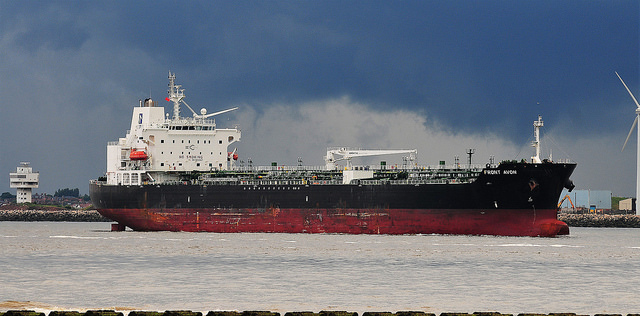tanker: (91, 67, 577, 241)
